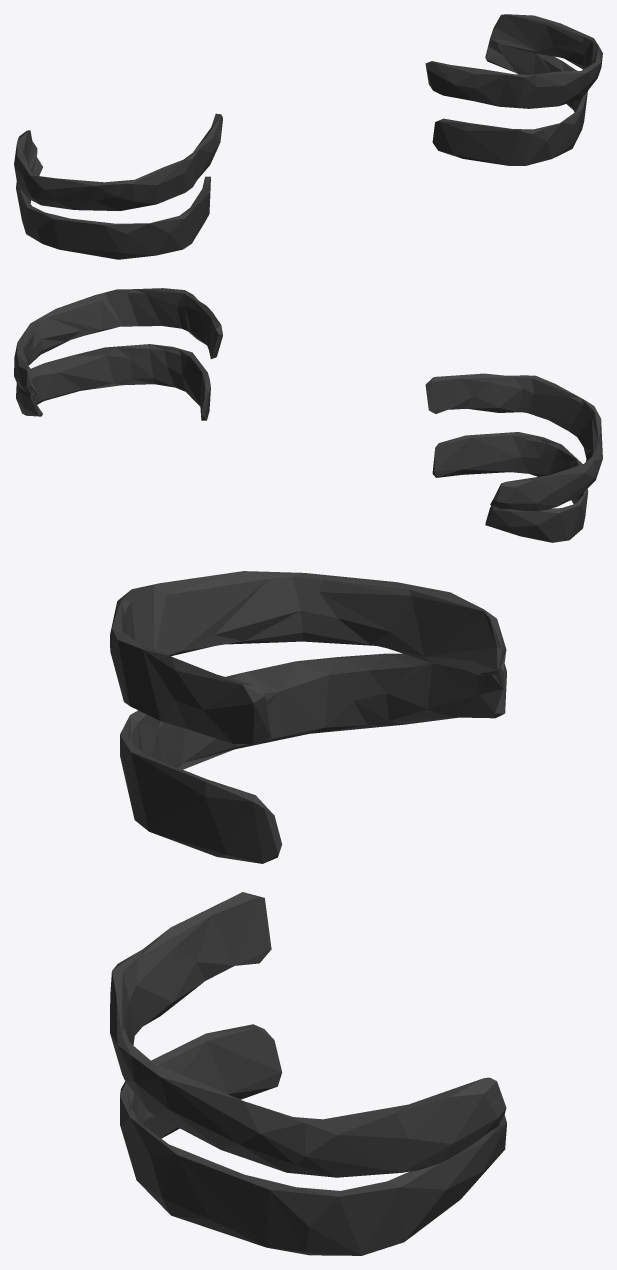
File: lig_extensor_retinaculum_FL.glb
The picture shows the model from 3 angles, top to bottom: view 1: azimuth 30°, elevation 25°; view 2: azimuth 150°, elevation 25°; view 3: azimuth 270°, elevation 25°; orthographic projection. The views are drawn at different scales.
Parts seen in each view (by area): view 1: lig_extensor_retinaculum_FL; view 2: lig_extensor_retinaculum_FL; view 3: lig_extensor_retinaculum_FL.
Part boxes in pixels (x1=…): lig_extensor_retinaculum_FL: x1=14, y1=14, x2=602, y2=259; lig_extensor_retinaculum_FL: x1=14, y1=288, x2=602, y2=542; lig_extensor_retinaculum_FL: x1=110, y1=571, x2=506, y2=1255.
Size of the model in its own units: 0.00527 by 0.000917 by 0.0016.
1 material, 1 textured.
